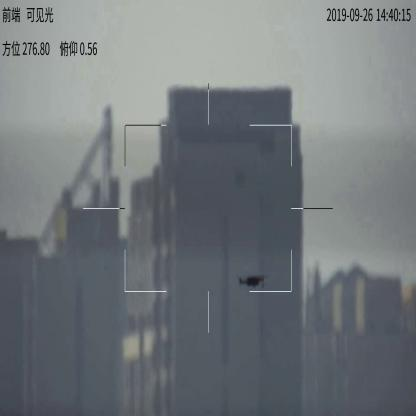uav: (233, 273, 267, 290)
